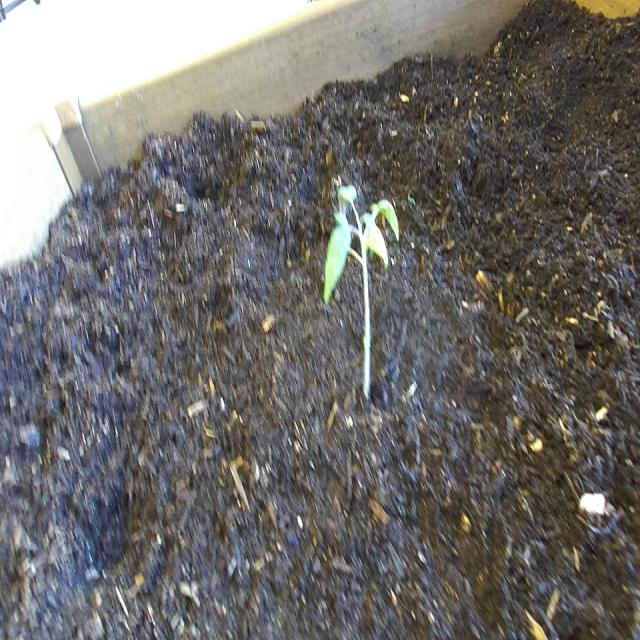Healthy: (318, 173, 406, 412)
